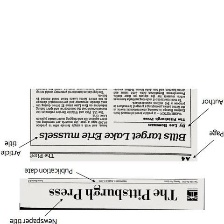news_paper: (28, 87, 198, 161), (17, 176, 206, 211)
